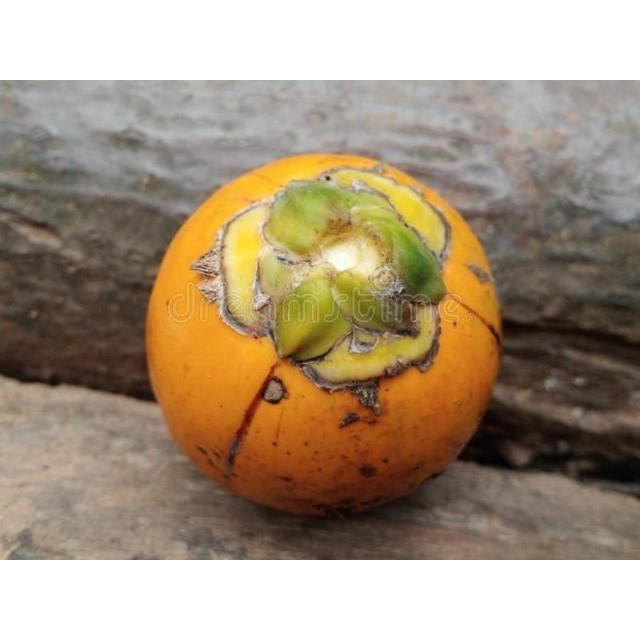good: (145, 154, 502, 519)
